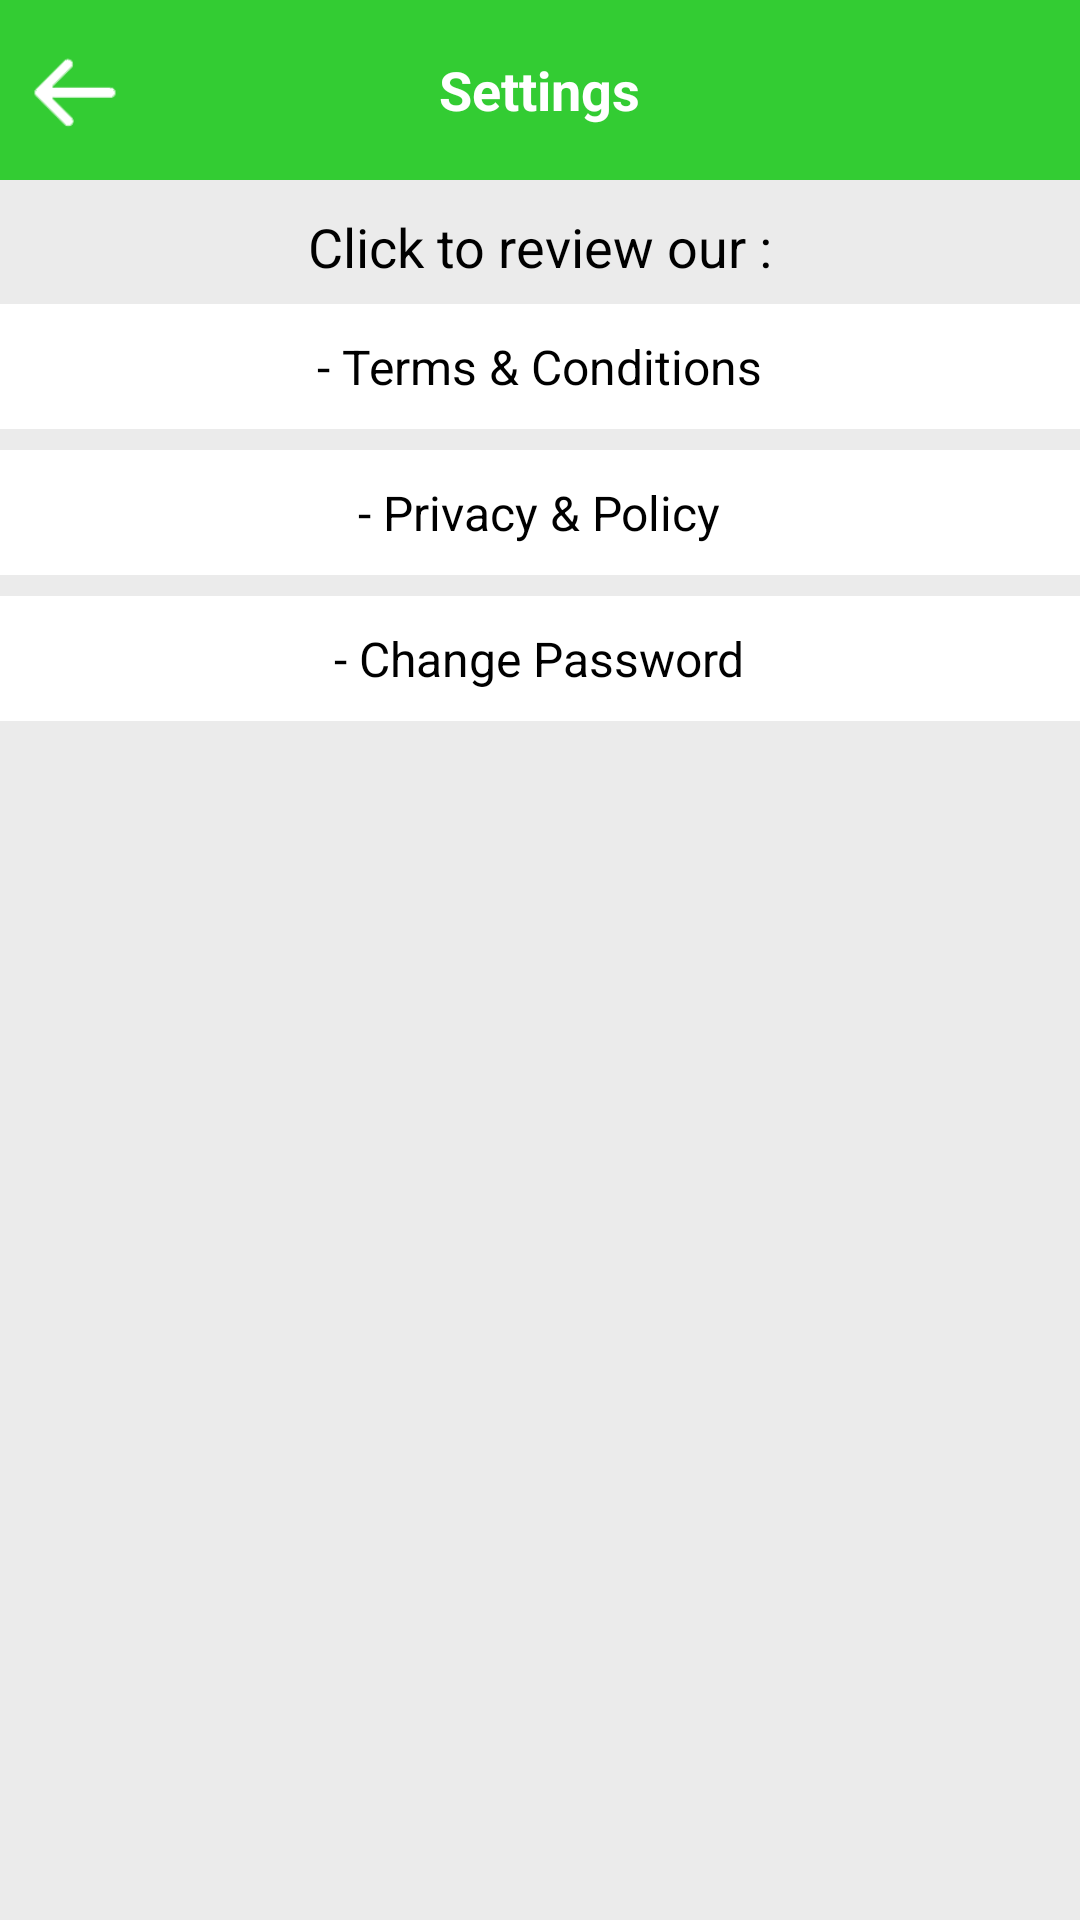

Where to tap for icons on this 1080x1920 app screen, as (x,y):
back arr: (75,92)
